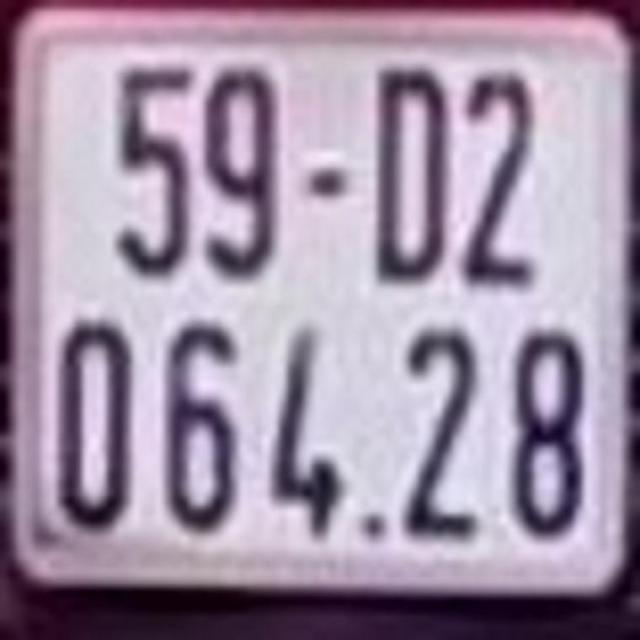0: (158, 314, 238, 536), (55, 315, 134, 528)
2: (398, 318, 484, 552), (462, 60, 533, 295)
4: (261, 316, 344, 551)
5: (114, 64, 193, 278)
8: (506, 321, 587, 545)
9: (200, 60, 283, 284)
D: (370, 62, 450, 284)
